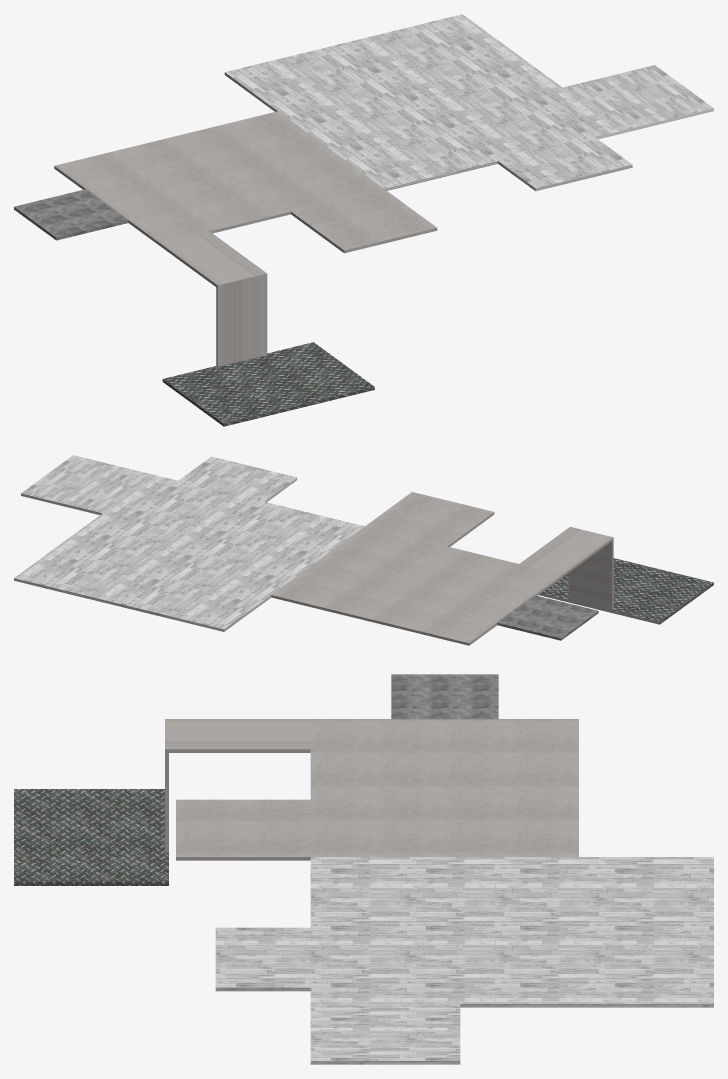
3 views of the same model, one above another, from view 1: azimuth 30°, elevation 25°; view 2: azimuth 150°, elevation 25°; view 3: azimuth 270°, elevation 25° (orthographic). The views are drawn at different scales.
Visible parts, largest first — view 1: floor_004; view 2: floor_004; view 3: floor_004.
Boxes of the visible parts, x1=… form: floor_004: x1=14, y1=14, x2=713, y2=426; floor_004: x1=14, y1=455, x2=713, y2=645; floor_004: x1=14, y1=674, x2=713, y2=1064.
Bounding box in the file's own units: 13.56 × 1.75 × 10.38.
Materials: 4 (4 with a texture image).
